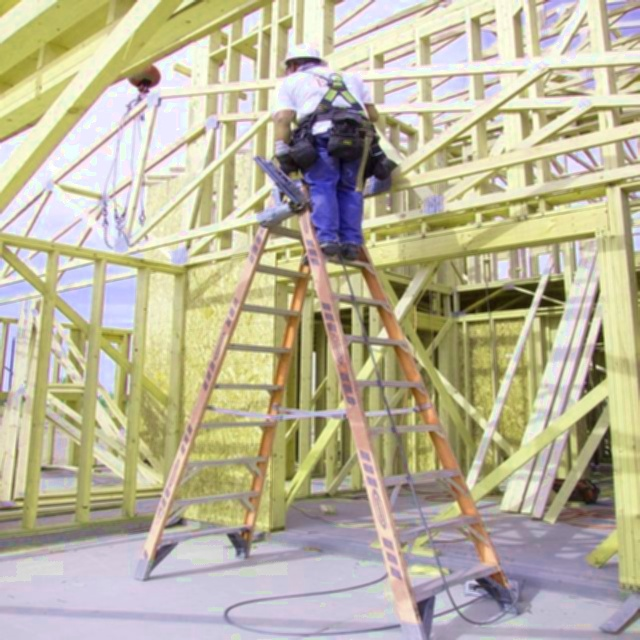Con_Casco: (283, 38, 325, 73)
